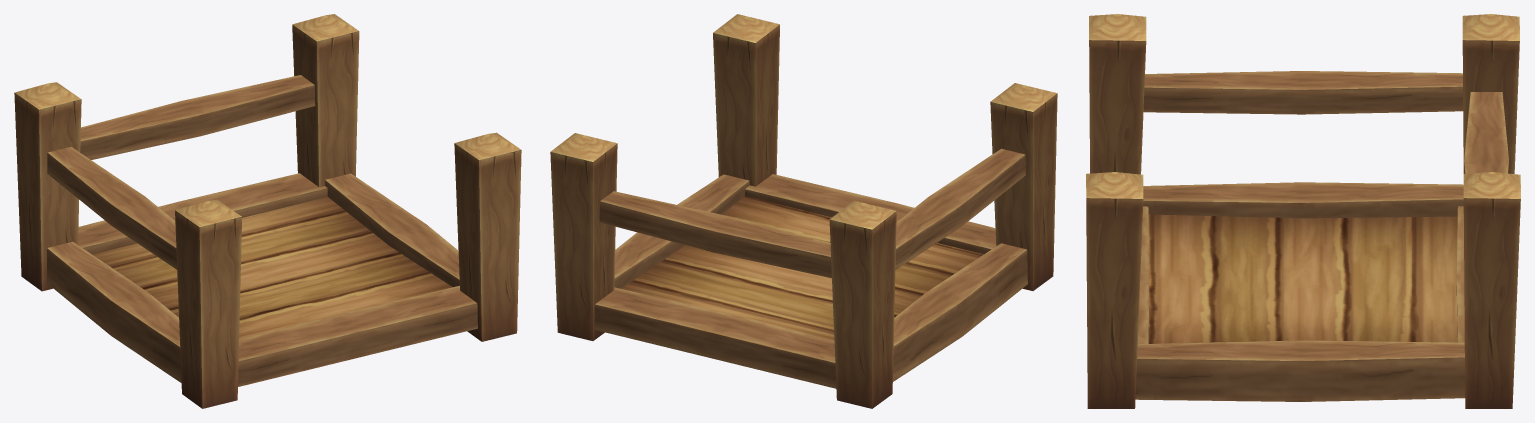
Rendered from bridge_02_tile_04.fbx.
3 views of the same model, side by side, from view 1: azimuth 30°, elevation 25°; view 2: azimuth 150°, elevation 25°; view 3: azimuth 270°, elevation 25° (orthographic). The views are drawn at different scales.
Parts seen in each view (by area): view 1: bridge_02_tile_04; view 2: bridge_02_tile_04; view 3: bridge_02_tile_04.
Part boxes in pixels (box(x1,y1,x2,y2)): bridge_02_tile_04: box(14, 14, 521, 408); bridge_02_tile_04: box(550, 14, 1057, 408); bridge_02_tile_04: box(1086, 14, 1520, 408).
Bounding box in the file's own units: 2.05 × 1.19 × 2.07.
